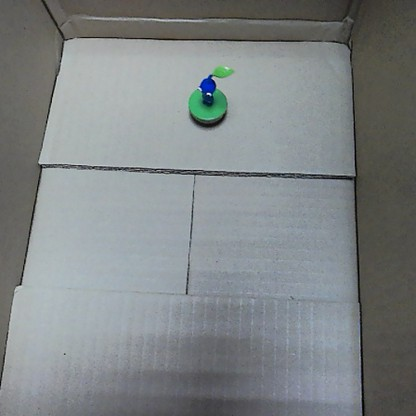leafairy: (188, 66, 234, 126)
